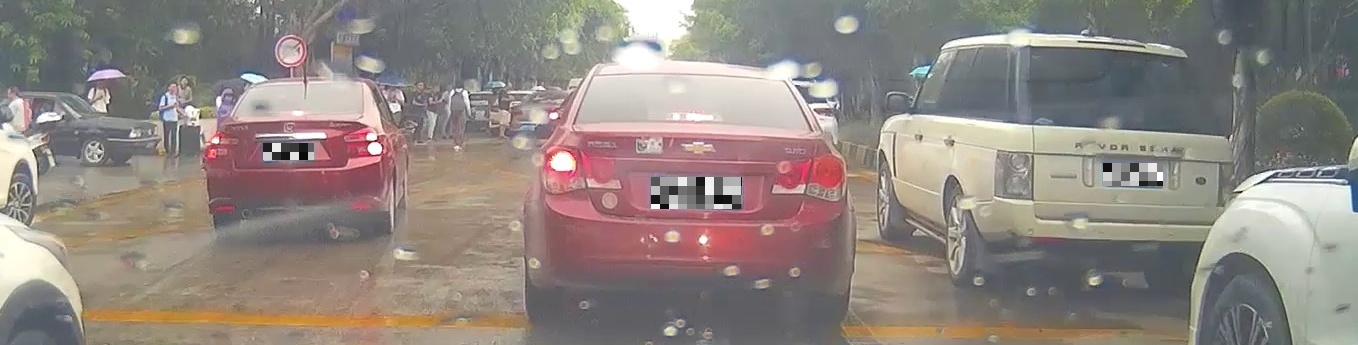L_light: (539, 144, 624, 196), (993, 149, 1035, 200), (206, 132, 240, 160)
R_light: (770, 154, 846, 201), (343, 126, 384, 157), (1217, 162, 1236, 207)
T_light: (1076, 39, 1147, 51), (666, 112, 717, 122), (277, 110, 307, 115)
day-brake: (206, 76, 389, 241)
day-left: (525, 60, 855, 324)
day-no: (991, 33, 1238, 297)
plate_1: (263, 143, 314, 160)
plate_2: (651, 177, 742, 209)
plate_3: (1103, 163, 1163, 186)
